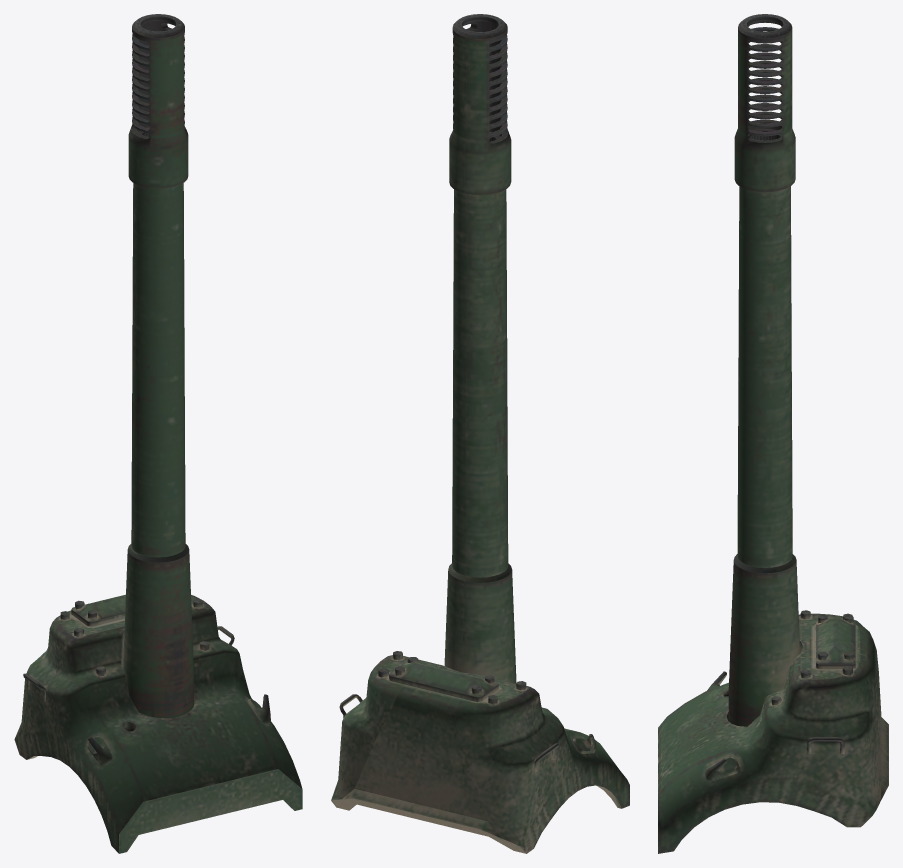
Rendered from Gun_05.glb.
3 views of the same model, side by side, from view 1: azimuth 30°, elevation 25°; view 2: azimuth 150°, elevation 25°; view 3: azimuth 270°, elevation 25° (orthographic). The views are drawn at different scales.
Parts seen in each view (by area): view 1: set_0_group_0; view 2: set_0_group_0; view 3: set_0_group_0.
Part boxes in pixels (bbox=[...]): set_0_group_0: bbox=[14, 14, 302, 853]; set_0_group_0: bbox=[331, 14, 629, 853]; set_0_group_0: bbox=[658, 14, 888, 853].
Bounding box in the file's own units: 1.08 × 4.01 × 1.07.
1 material, 1 textured.
